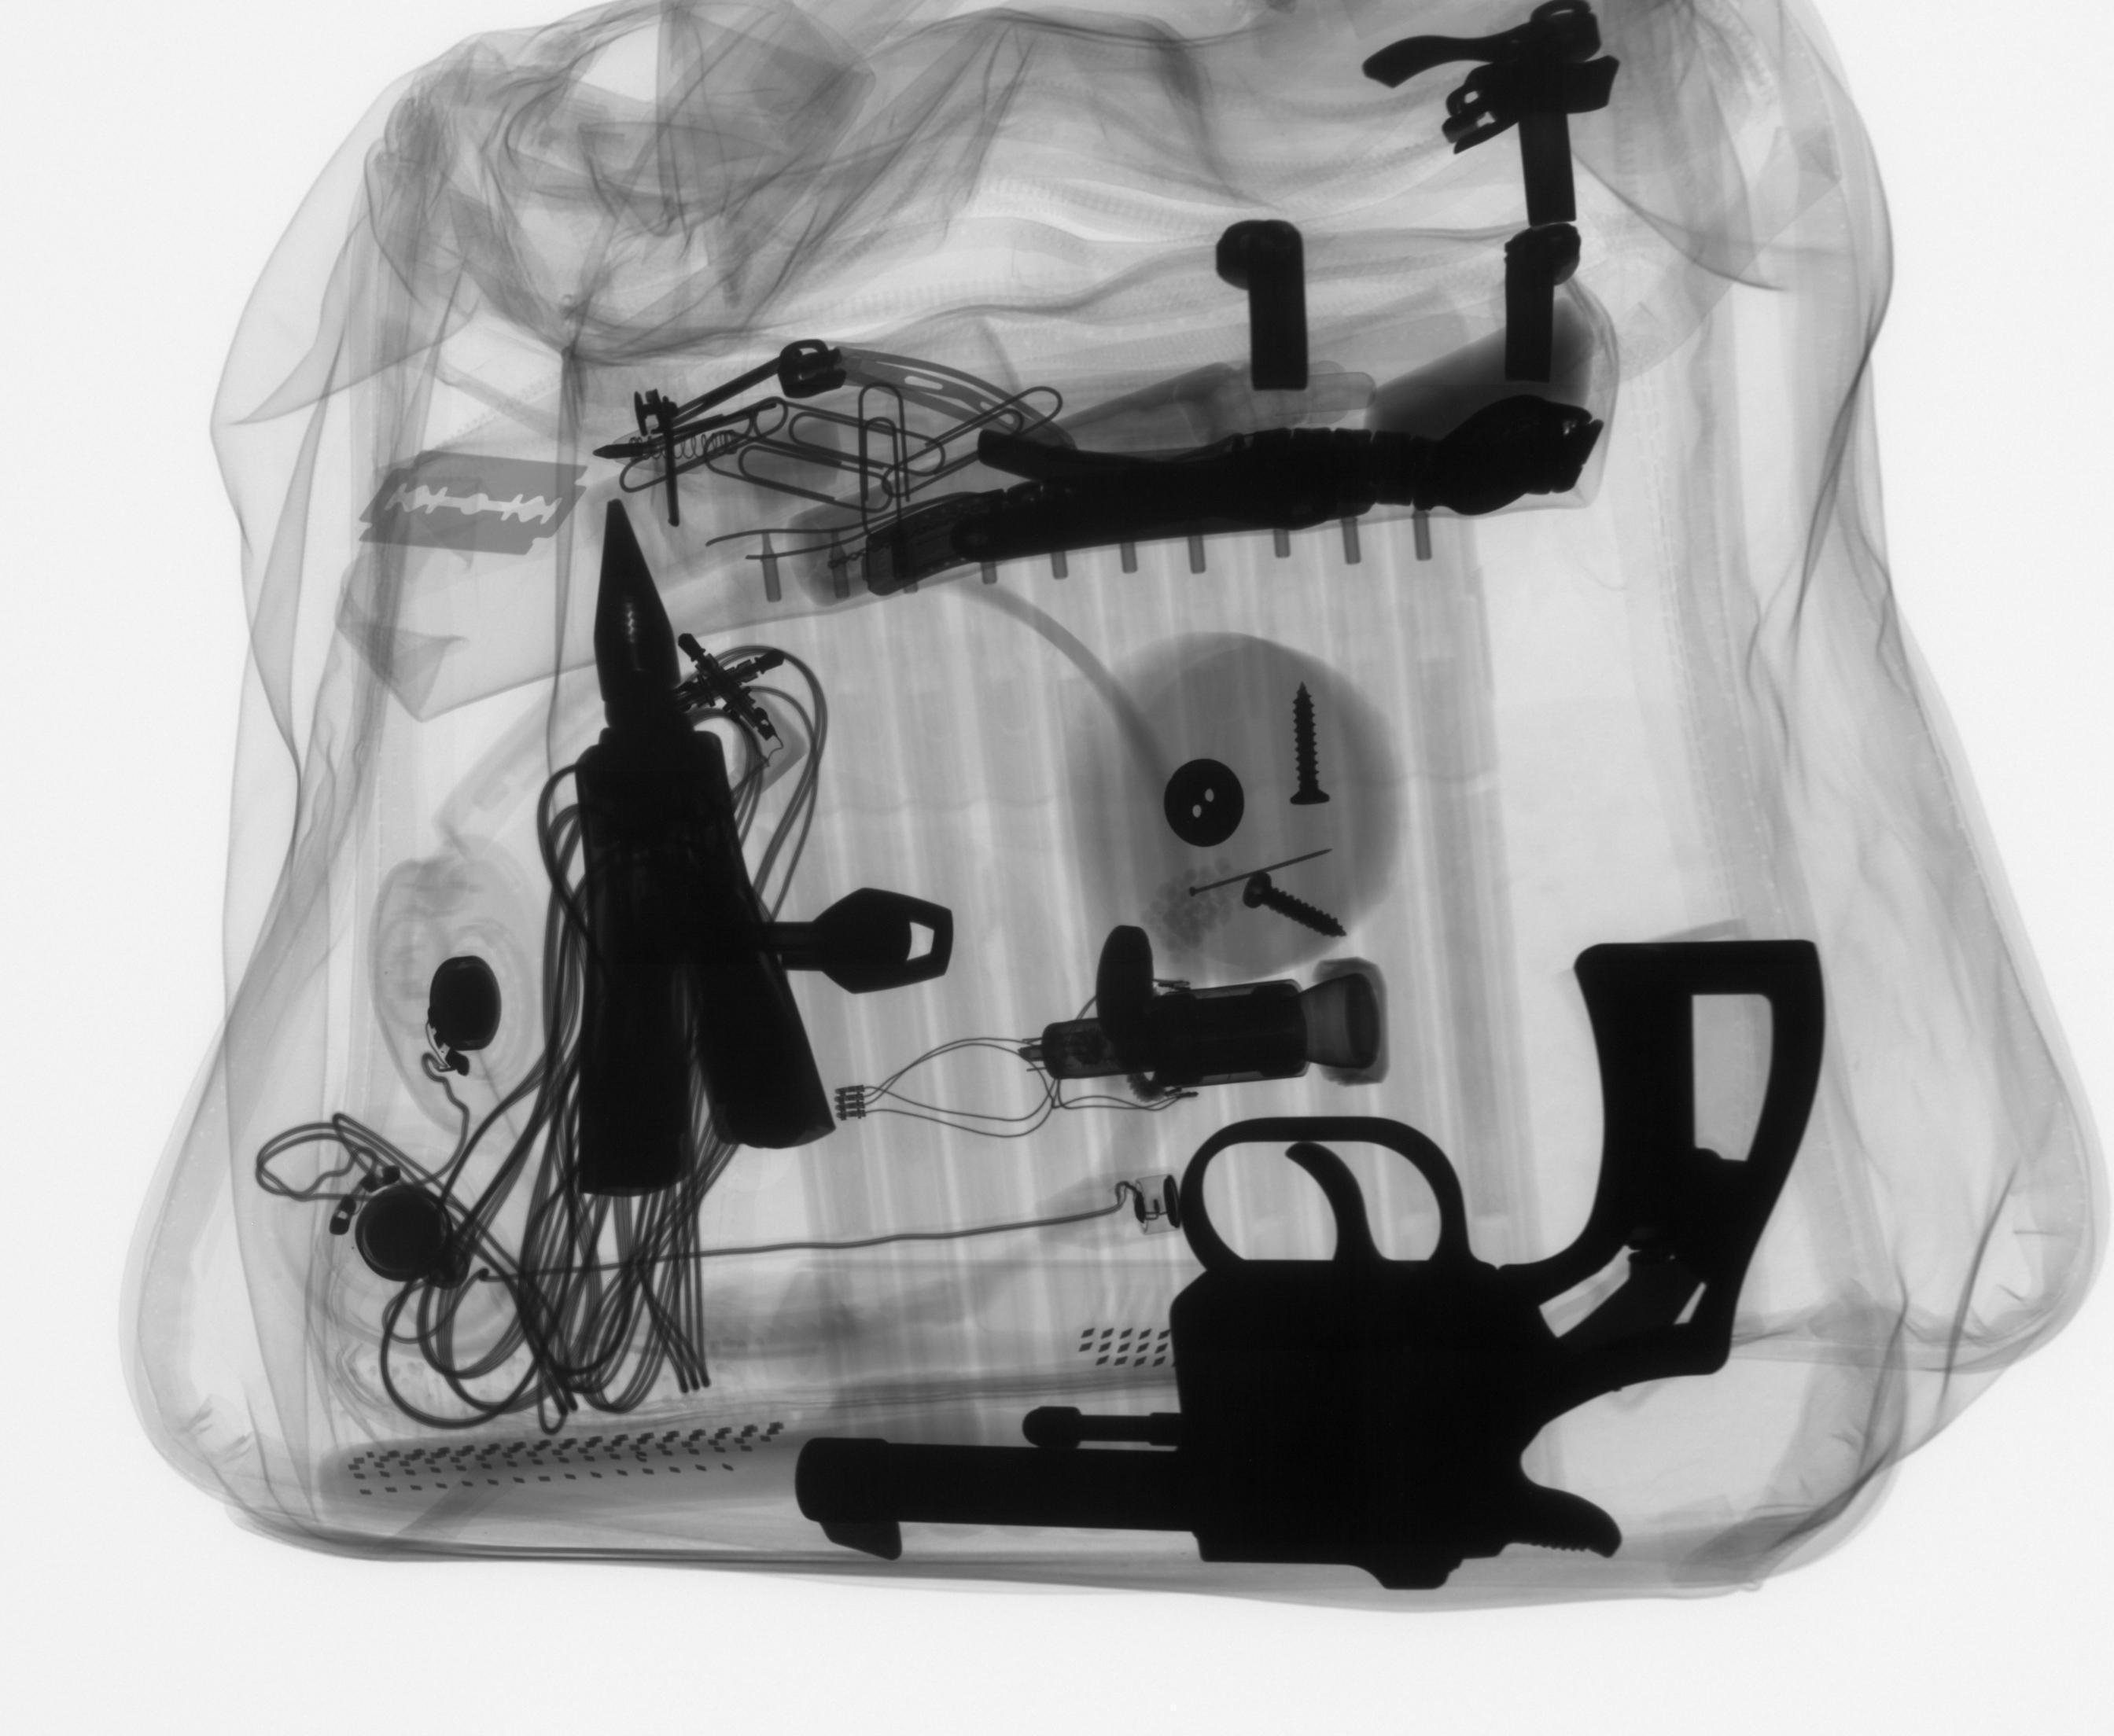Handgun: (786, 929, 1840, 1605)
RazorBlade: (347, 442, 596, 565)
